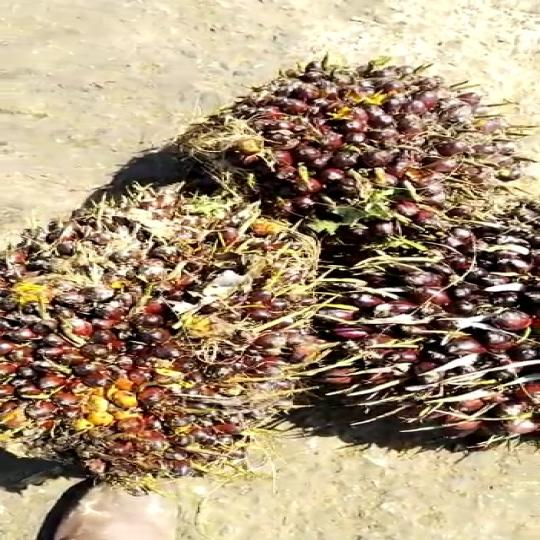kurang masak: (0, 176, 338, 489), (194, 49, 540, 244), (346, 174, 540, 458)
